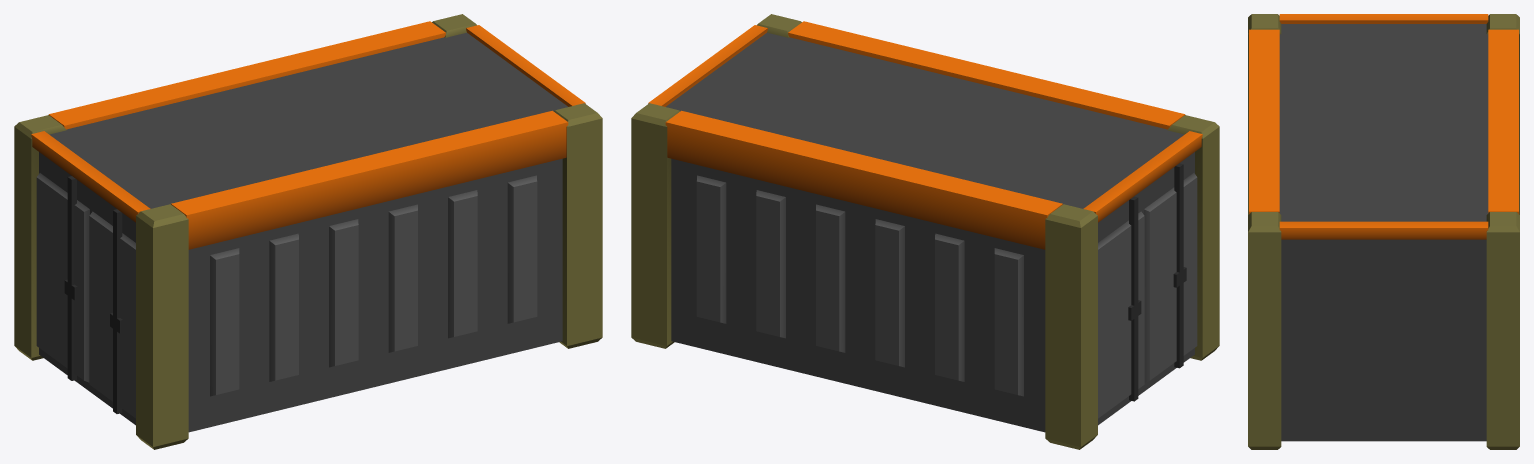
The model's file is cargo.glb.
3 renders of one model, left to right at view 1: azimuth 30°, elevation 25°; view 2: azimuth 150°, elevation 25°; view 3: azimuth 270°, elevation 25°, orthographic. The views are drawn at different scales.
Parts seen in each view (by area): view 1: cargo; view 2: cargo; view 3: cargo.
Part boxes in pixels (x1=…): cargo: x1=14, y1=14, x2=602, y2=449; cargo: x1=631, y1=14, x2=1219, y2=449; cargo: x1=1248, y1=14, x2=1519, y2=449.
Bounding box in the file's own units: 2.9 × 1.41 × 1.55.
Materials: 1 (1 with a texture image).
